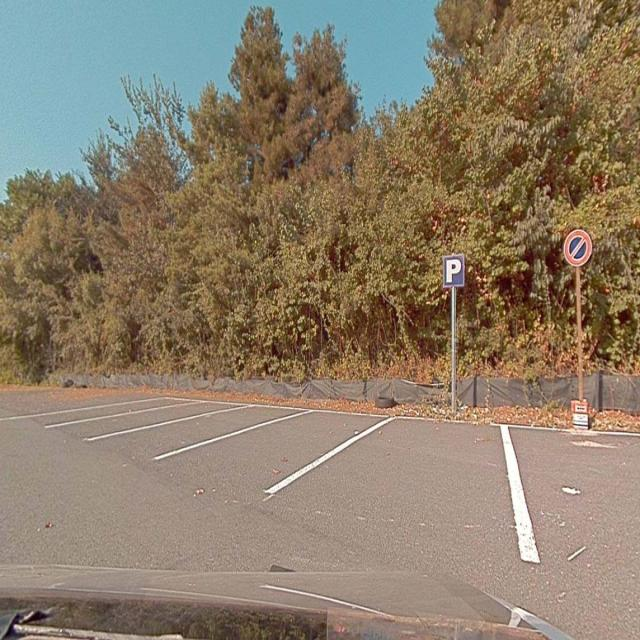park: (444, 257, 463, 286)
parkyasak: (564, 230, 592, 267)
